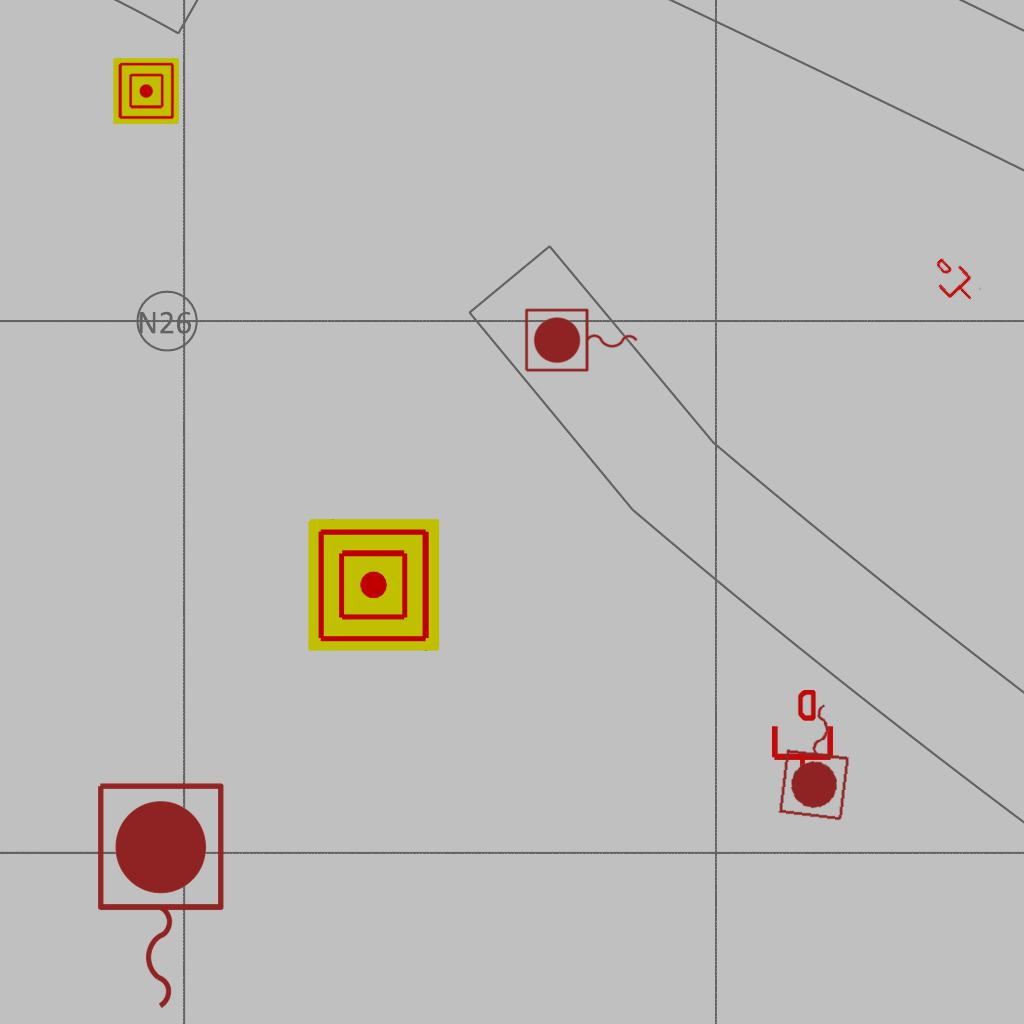Datenanschluss_einfach: (768, 690, 837, 790), (924, 251, 984, 311)
NAM-Nichtautomatischer_Melder: (308, 519, 440, 651), (113, 58, 179, 124)
Zugtaster: (87, 775, 231, 1019), (774, 695, 862, 825), (521, 305, 643, 377)
